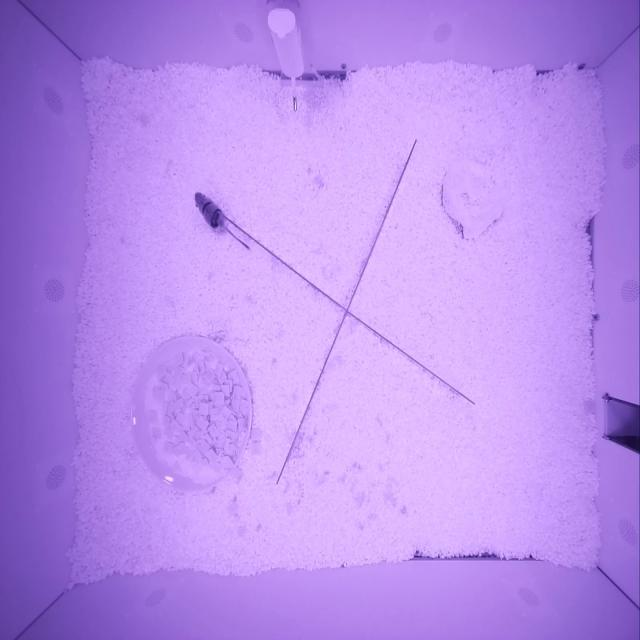pup_h_stripe: (194, 192, 225, 230)
